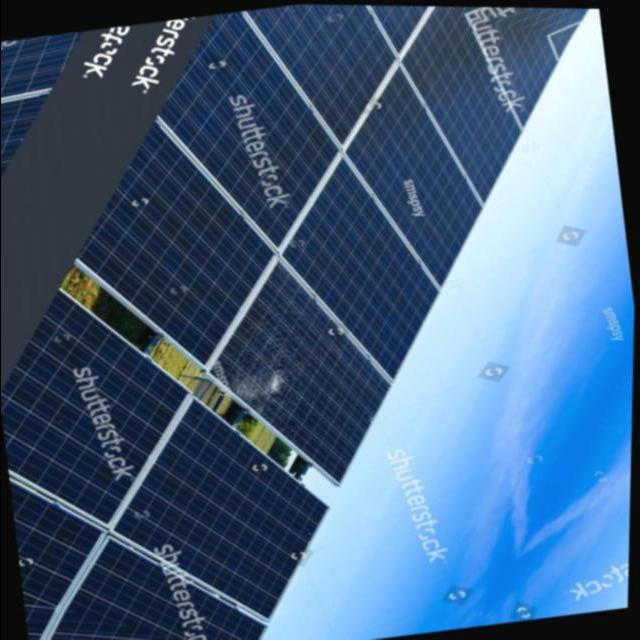cracked: (200, 255, 389, 490)
